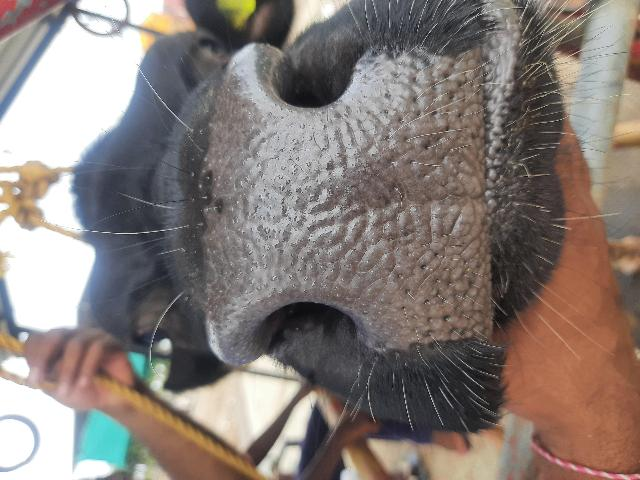Muzzle: (202, 100, 490, 302)
